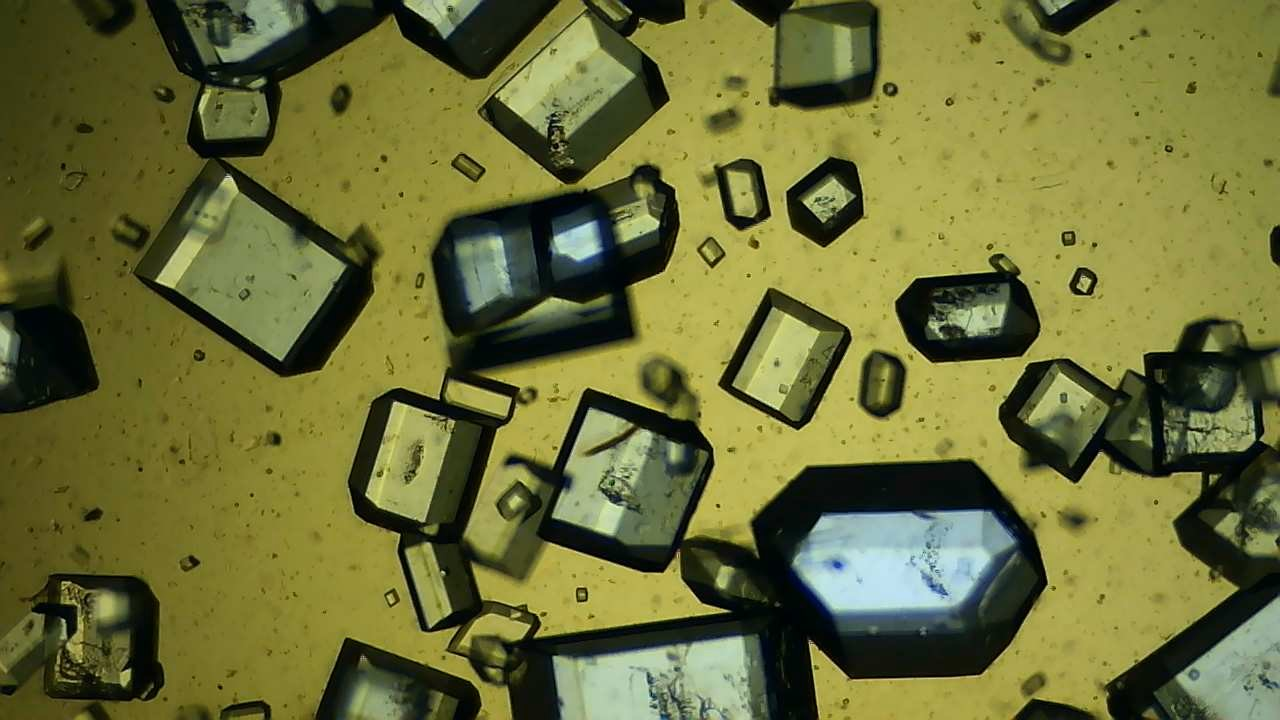crystal: (748, 459, 1051, 679), (132, 157, 375, 379), (501, 601, 821, 720), (477, 8, 671, 187), (536, 387, 714, 572), (347, 387, 498, 542), (717, 287, 852, 430), (991, 355, 1131, 485), (997, 359, 1131, 485), (1144, 350, 1267, 478), (41, 571, 159, 703), (313, 634, 484, 720), (894, 273, 1041, 363), (764, 1, 880, 115), (1, 303, 104, 417), (175, 67, 288, 159), (392, 525, 485, 635), (437, 597, 544, 671), (785, 155, 866, 249), (427, 362, 525, 430), (713, 156, 773, 233), (855, 348, 912, 421), (489, 477, 545, 527), (13, 214, 58, 256), (106, 212, 152, 251), (978, 247, 1027, 279), (446, 152, 490, 187), (324, 82, 355, 120), (696, 236, 729, 270), (169, 550, 206, 579), (1068, 266, 1099, 299), (1052, 225, 1085, 252), (261, 427, 290, 448), (878, 75, 902, 99), (81, 503, 106, 524), (382, 587, 402, 611), (572, 585, 591, 606), (411, 269, 427, 290), (1161, 141, 1177, 155)
